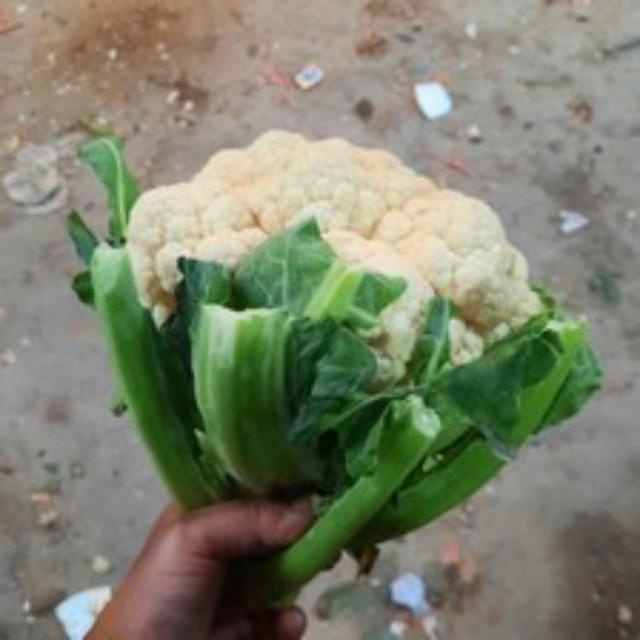cauliflower: (72, 126, 577, 554)
